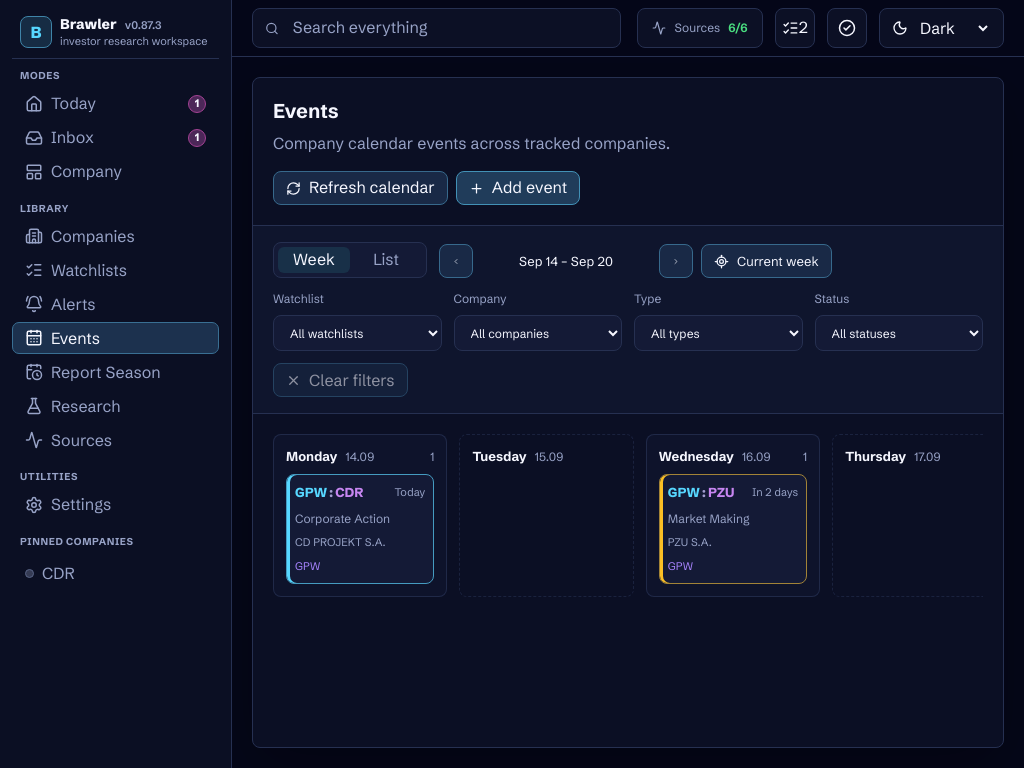
Test case: Events screen workflows › shows upcoming company events from real source-backed event data
Expected: the heading "Events" is shown, [273,98,339,123]
Expected: the text "Corporate Action" is shown, [295,511,390,526]
Click the button with aria-label "Open event: Main Market - Corporate actions - Equity - CDR": click(360, 529) [286,474,434,584]
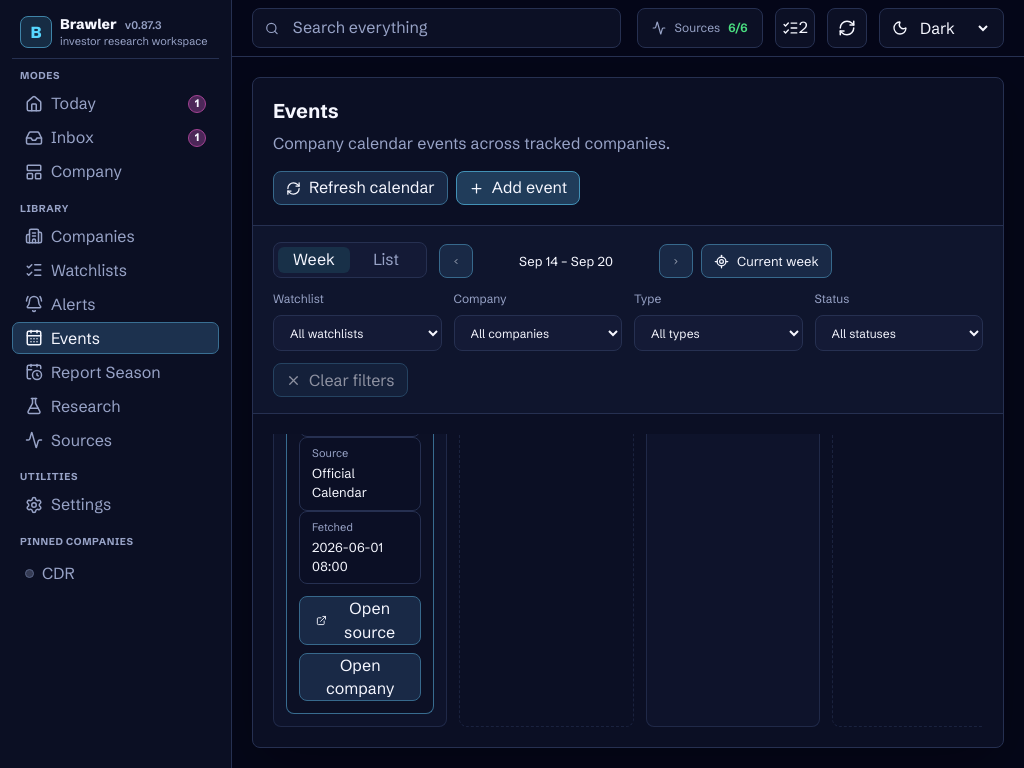
Result: the text "Official Calendar" is shown at [312,465,367,500]
Result: the button "Open source" is shown at [299,596,421,645]
